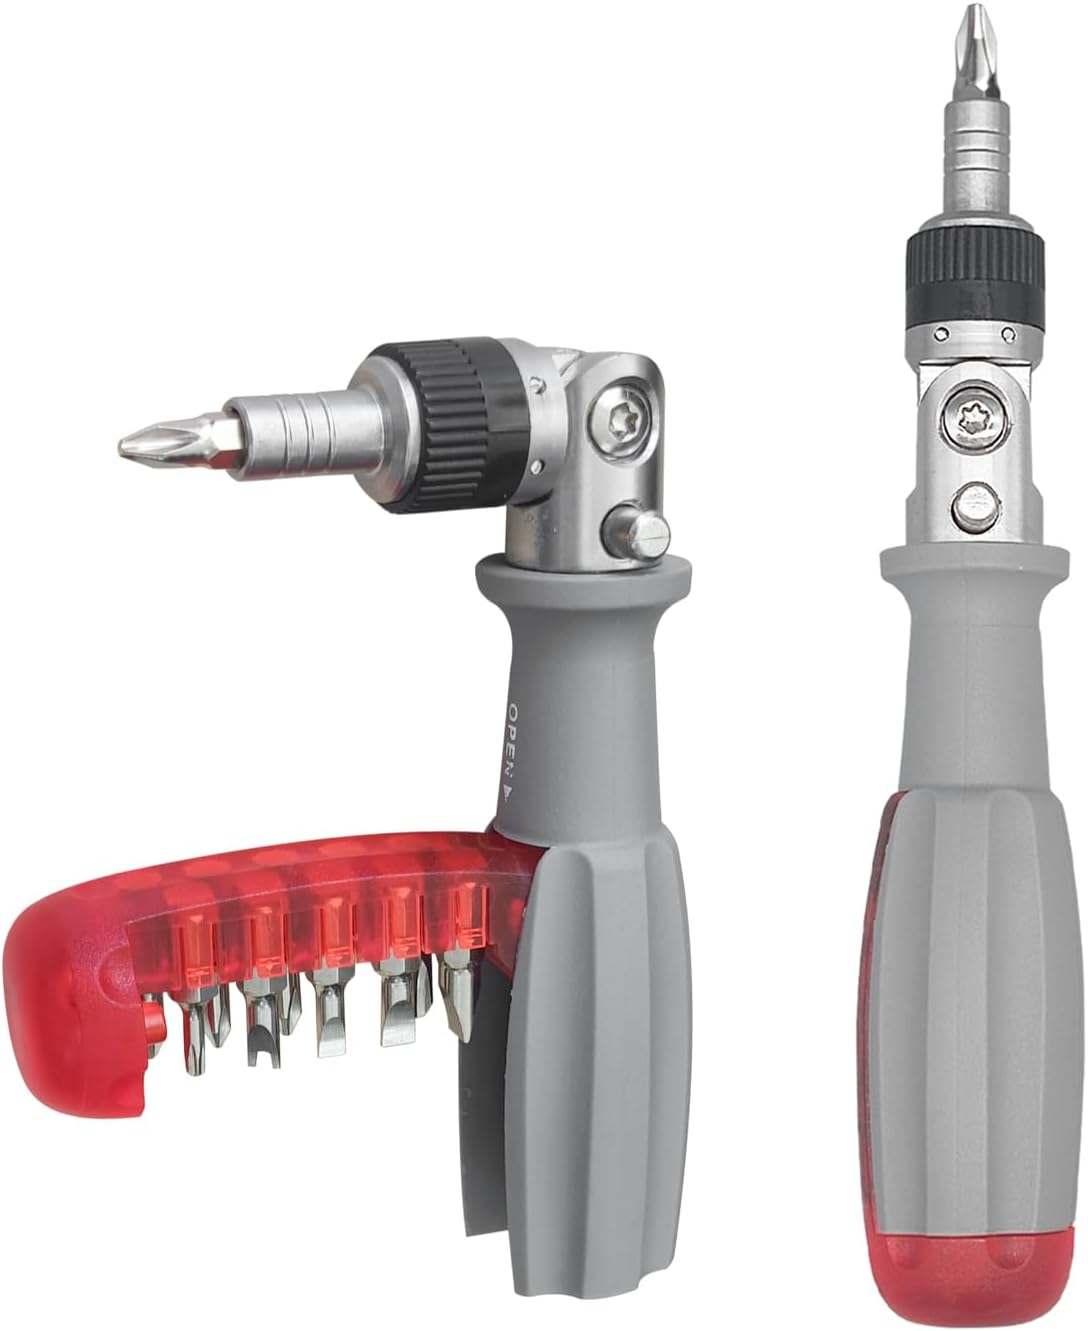screwdriver: (10, 342, 698, 1295), (854, 1, 1081, 1331)
